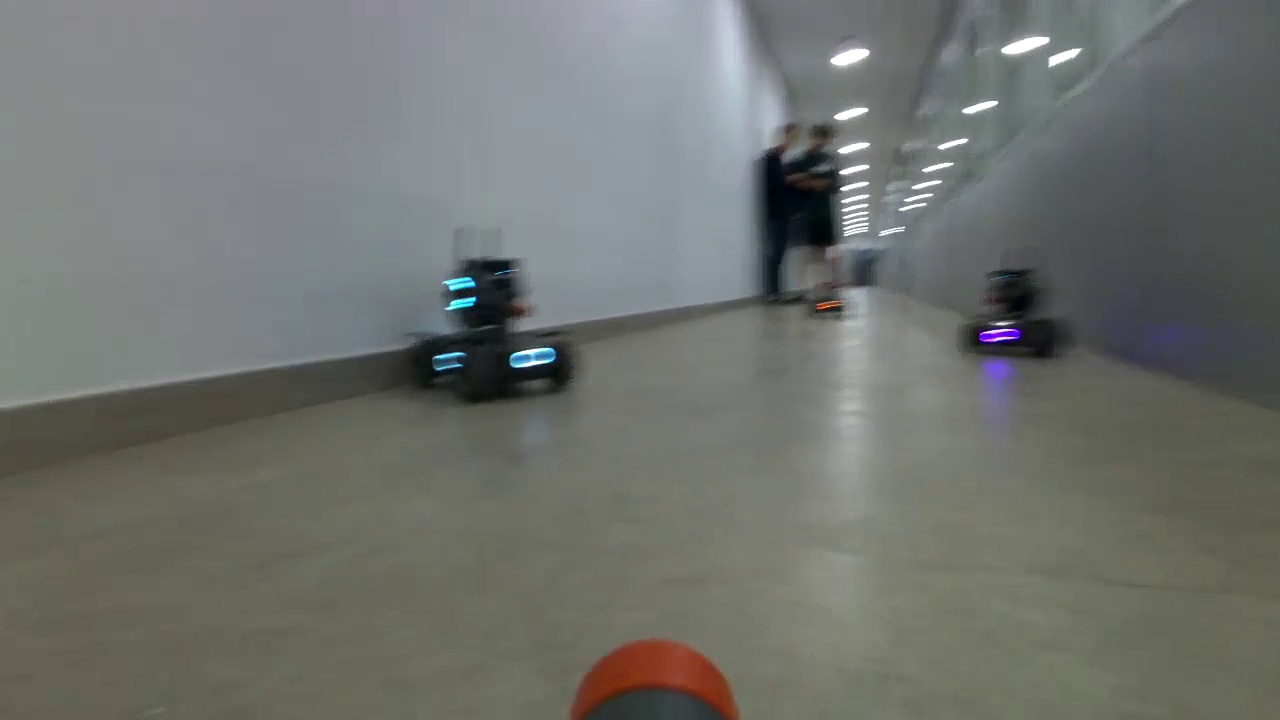robot: (420, 261, 576, 402), (959, 266, 1067, 362), (806, 285, 844, 318)
